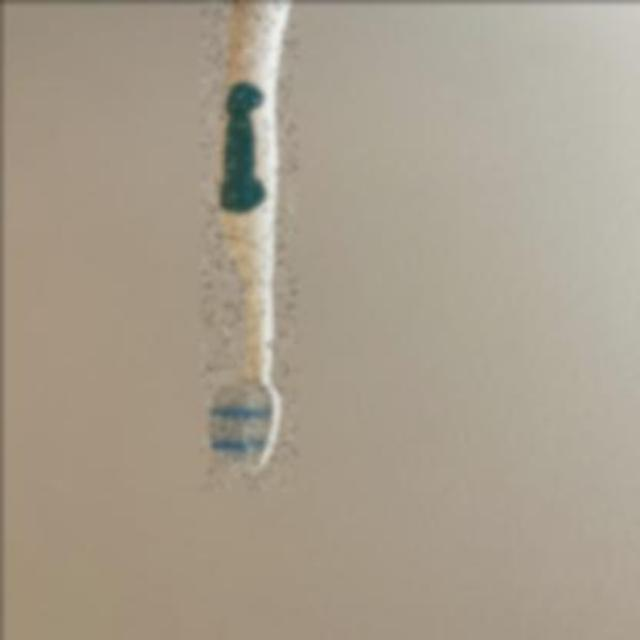toothbrush: (200, 1, 296, 490)
